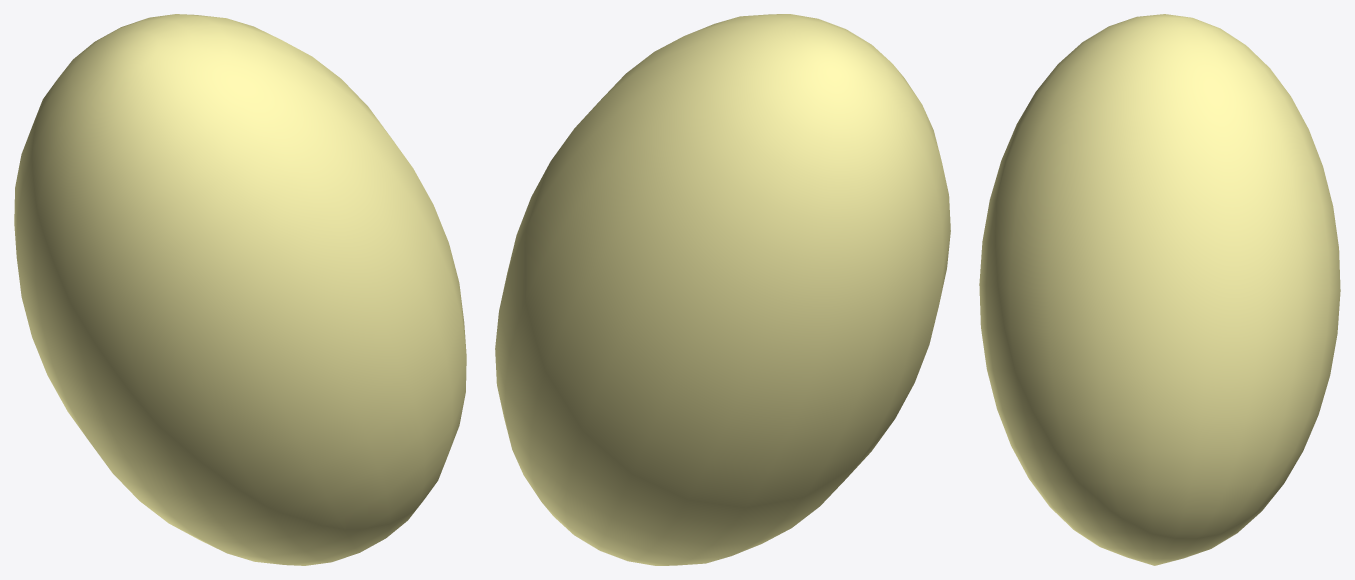
File: brazoDer.obj
3 renders of one model, left to right at view 1: azimuth 30°, elevation 25°; view 2: azimuth 150°, elevation 25°; view 3: azimuth 270°, elevation 25°, orthographic. The views are drawn at different scales.
Parts seen in each view (by area): view 1: pasted__pSphere2 group4; view 2: pasted__pSphere2 group4; view 3: pasted__pSphere2 group4.
Boxes of the visible parts, x1,y1,x2,y2 form: pasted__pSphere2 group4: (14,14,466,565); pasted__pSphere2 group4: (495,14,950,565); pasted__pSphere2 group4: (979,14,1340,565).
Bounding box in the file's own units: 0.9546 × 1.25 × 0.8641.
Materials: 1 (1 with a texture image).
